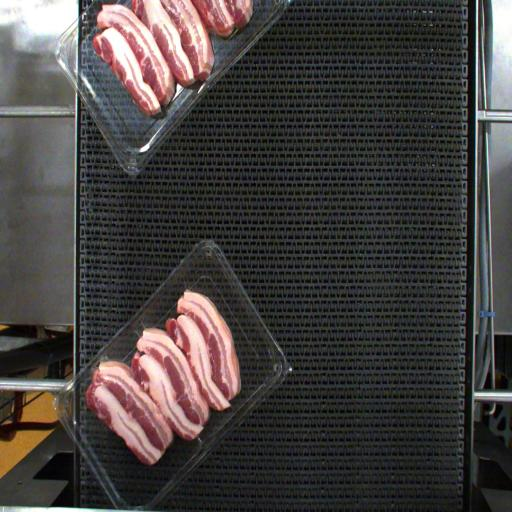packaging-error: (72, 342, 112, 374), (188, 425, 217, 460), (130, 318, 152, 342)
